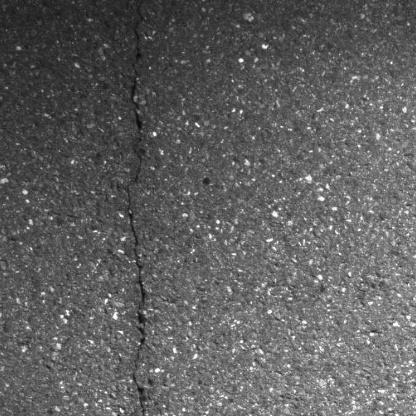Cracks: (124, 0, 152, 416)
